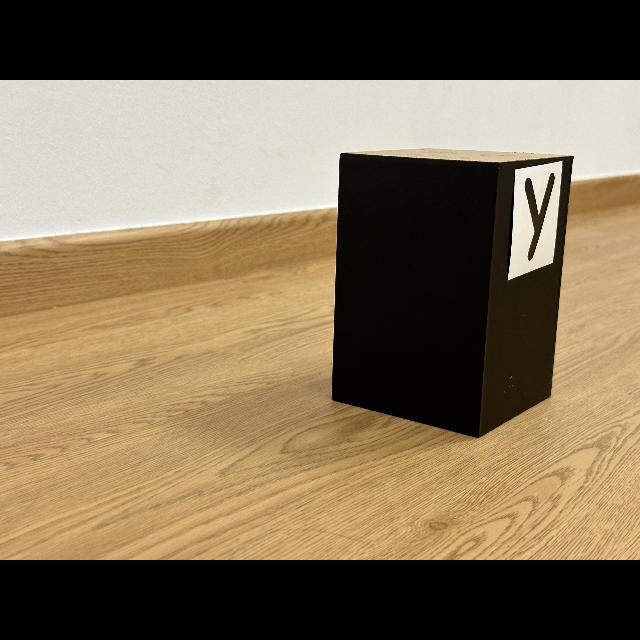Y: (525, 174, 555, 260)
